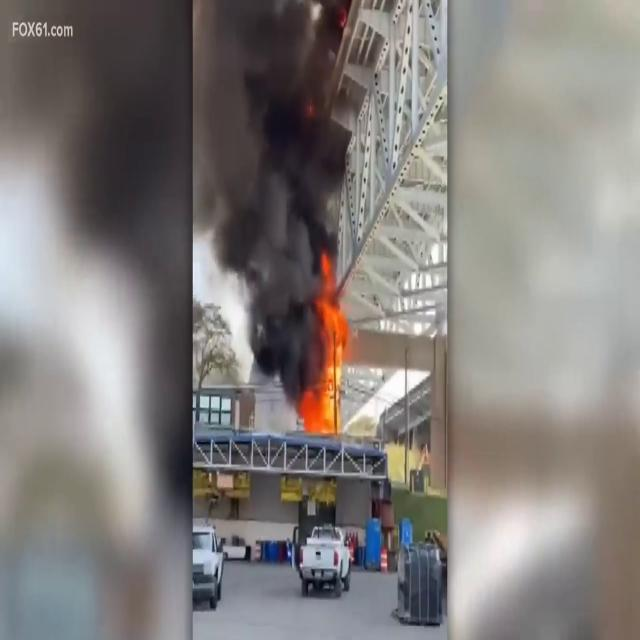Fire: (302, 280, 354, 432)
Smoke: (193, 2, 354, 370)
